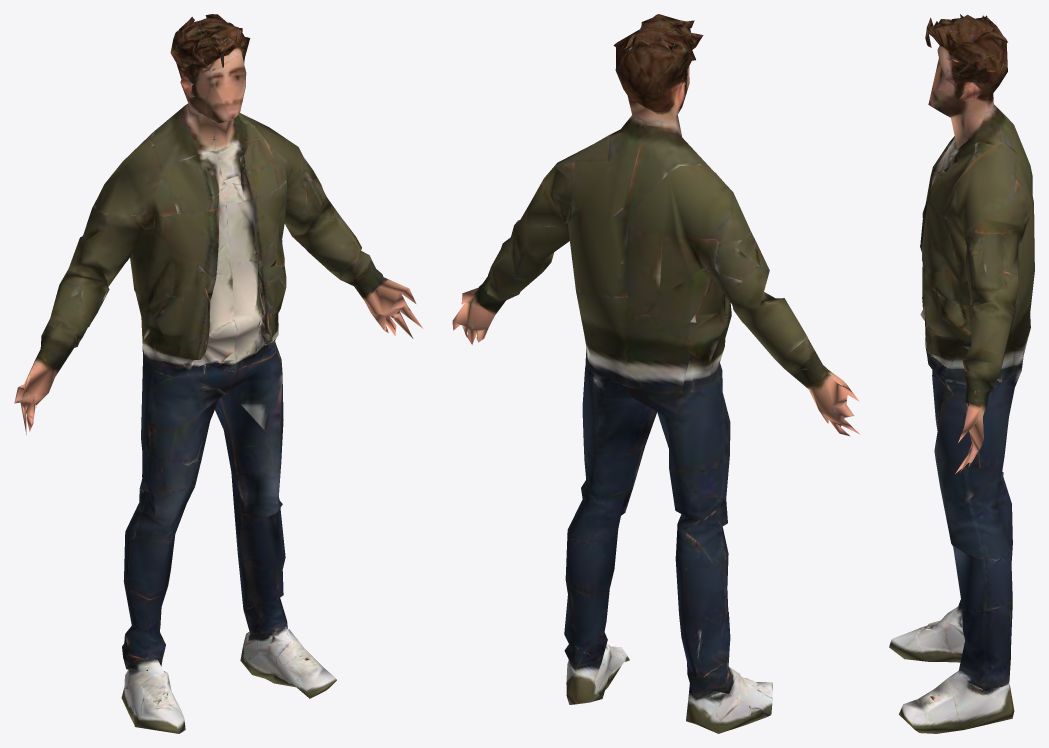
File: man.glb
3 views of the same model, side by side, from view 1: azimuth 30°, elevation 25°; view 2: azimuth 150°, elevation 25°; view 3: azimuth 270°, elevation 25° (orthographic).
Visible parts, largest first — view 1: man; view 2: man; view 3: man.
Part boxes in pixels (x1=…): man: x1=14, y1=14, x2=422, y2=733; man: x1=452, y1=14, x2=859, y2=733; man: x1=889, y1=14, x2=1034, y2=733.
Bounding box in the file's own units: 1.12 × 1.79 × 0.3549.
Materials: 1 (1 with a texture image).
